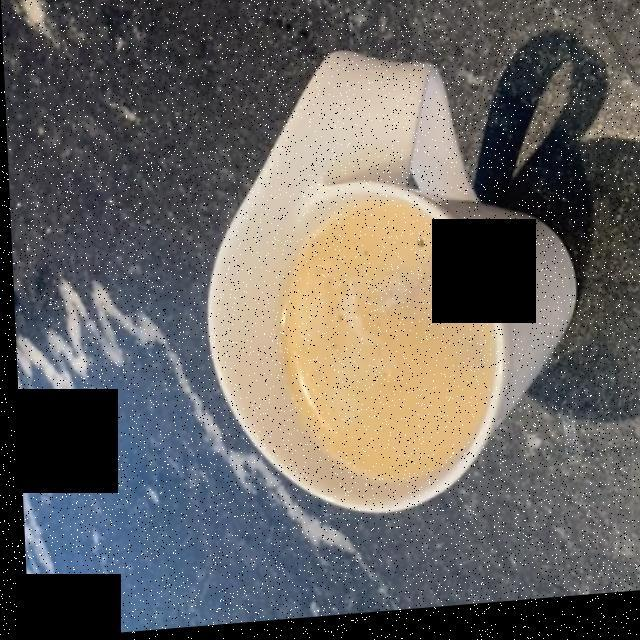coffee: (279, 214, 486, 485)
